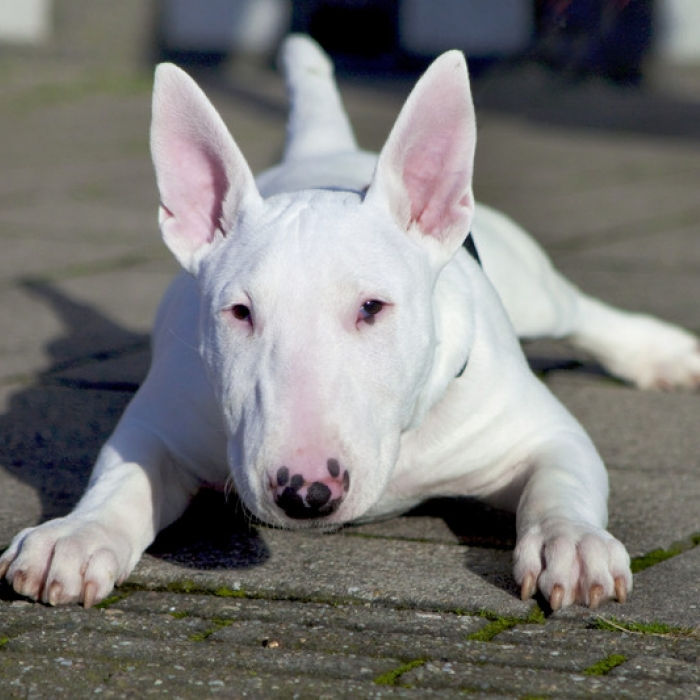bull_terrier: (0, 37, 700, 614)
